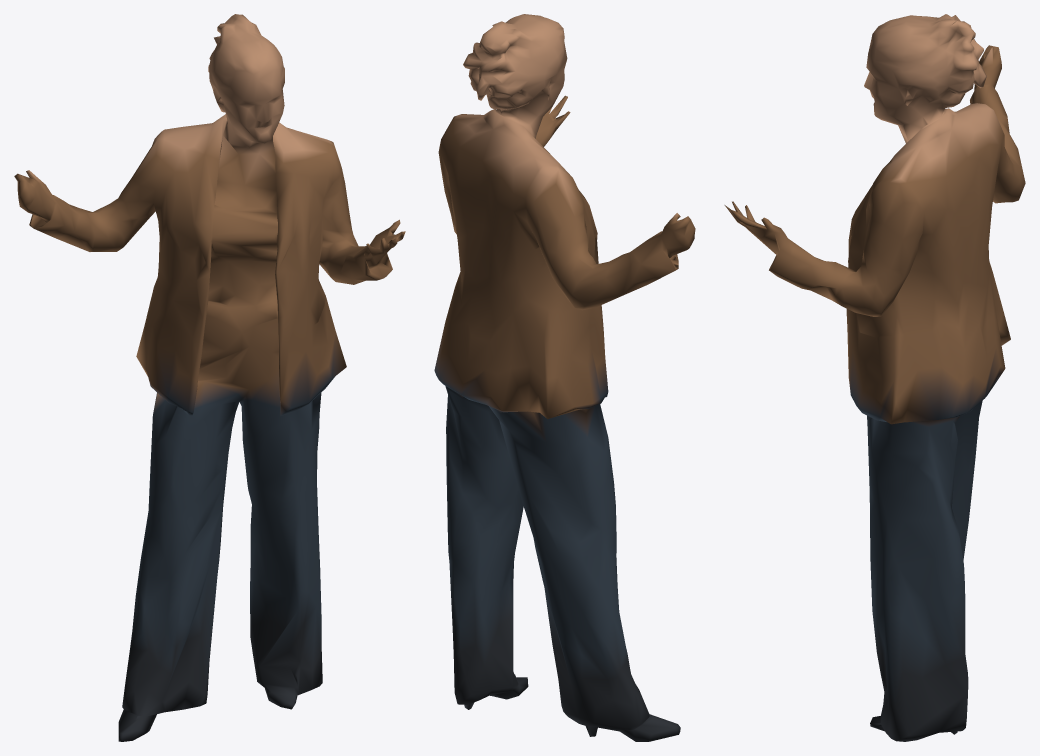
The model's file is people_typ2_stand.glb.
3 renders of one model, left to right at view 1: azimuth 30°, elevation 25°; view 2: azimuth 150°, elevation 25°; view 3: azimuth 270°, elevation 25°, orthographic. The views are drawn at different scales.
Parts seen in each view (by area): view 1: people_typ2_stand-mesh; view 2: people_typ2_stand-mesh; view 3: people_typ2_stand-mesh.
Part boxes in pixels (x1,y1,x2,y2): people_typ2_stand-mesh: [14, 14, 405, 741]; people_typ2_stand-mesh: [434, 14, 695, 741]; people_typ2_stand-mesh: [724, 14, 1025, 741].
Size of the model in its own units: 0.7919 by 1.78 by 0.6917.
